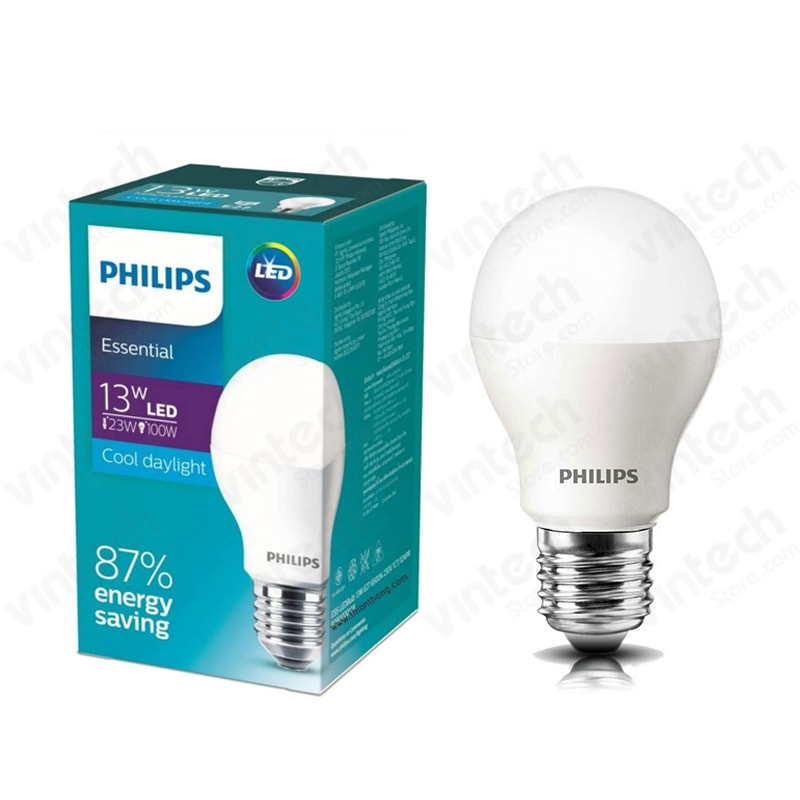Light_bulb: (462, 182, 735, 683)
